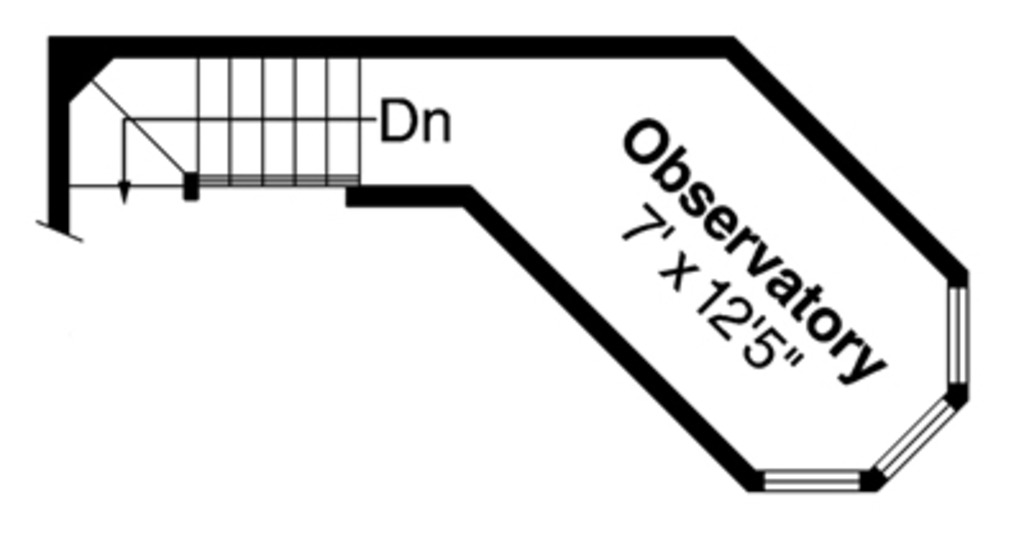stairs: (60, 58, 400, 225)
window: (876, 394, 955, 479), (764, 462, 865, 503), (940, 286, 978, 383)
